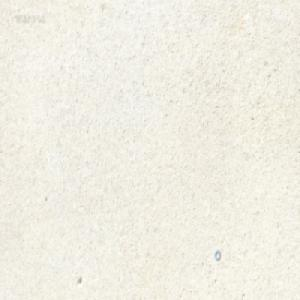Washer: (214, 249, 220, 261)
